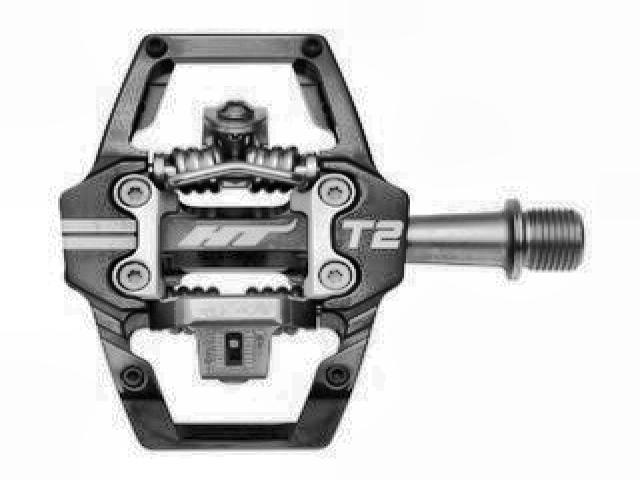pedal: (51, 28, 589, 455)
